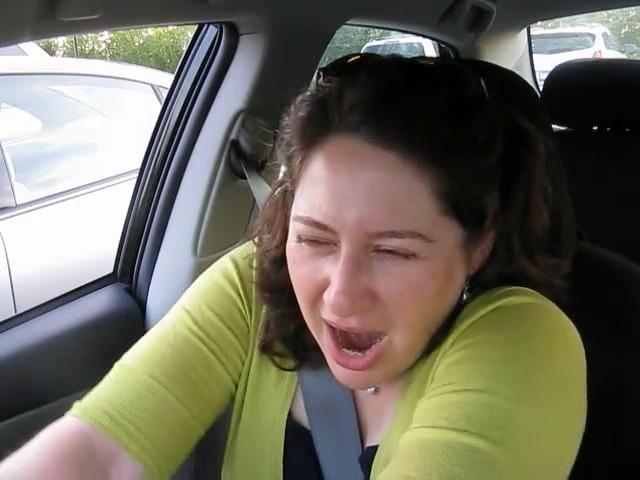close_eyeL: (286, 220, 344, 263)
close_eyeR: (352, 233, 433, 273)
yawn: (306, 316, 401, 375)
